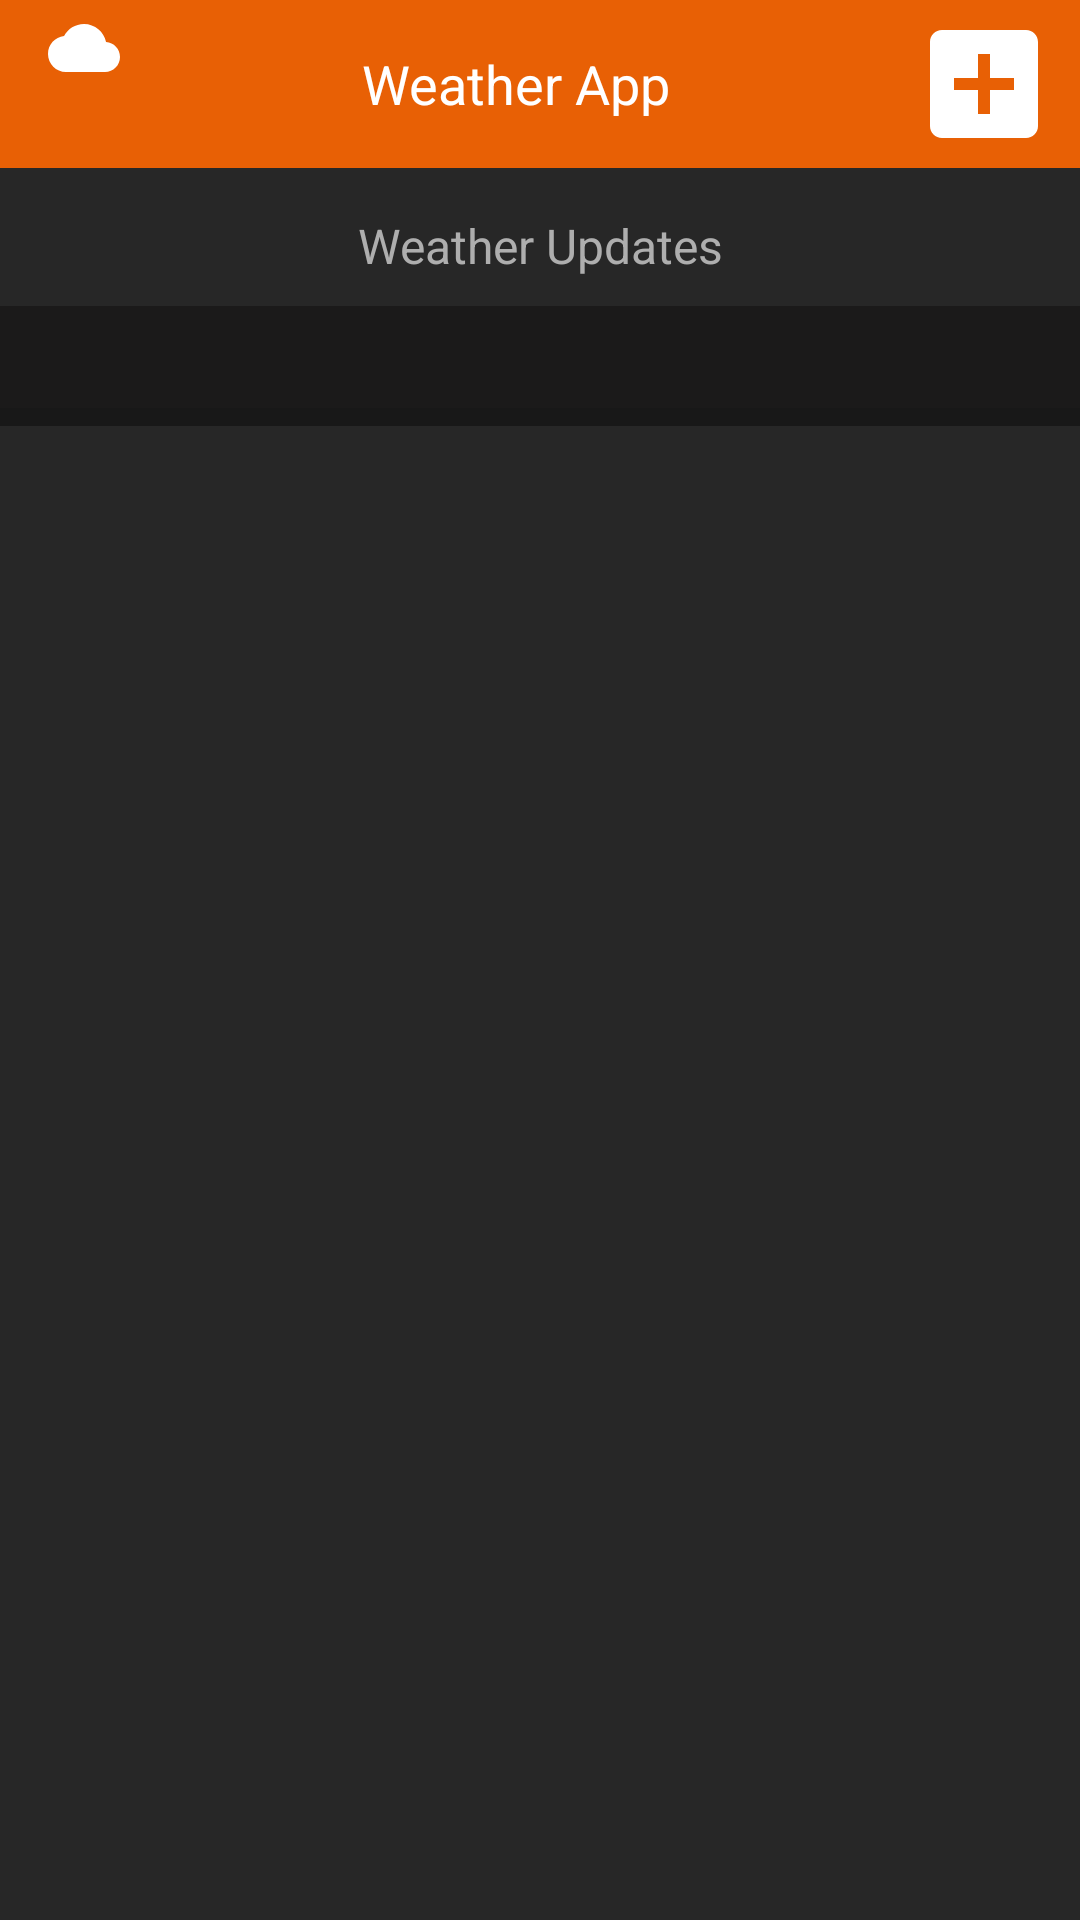

Screen size 1080px×1920px. Icon name, then its box in pixels as (x1, y1, x2, y2):
add location btn: (930, 30, 1038, 138)
